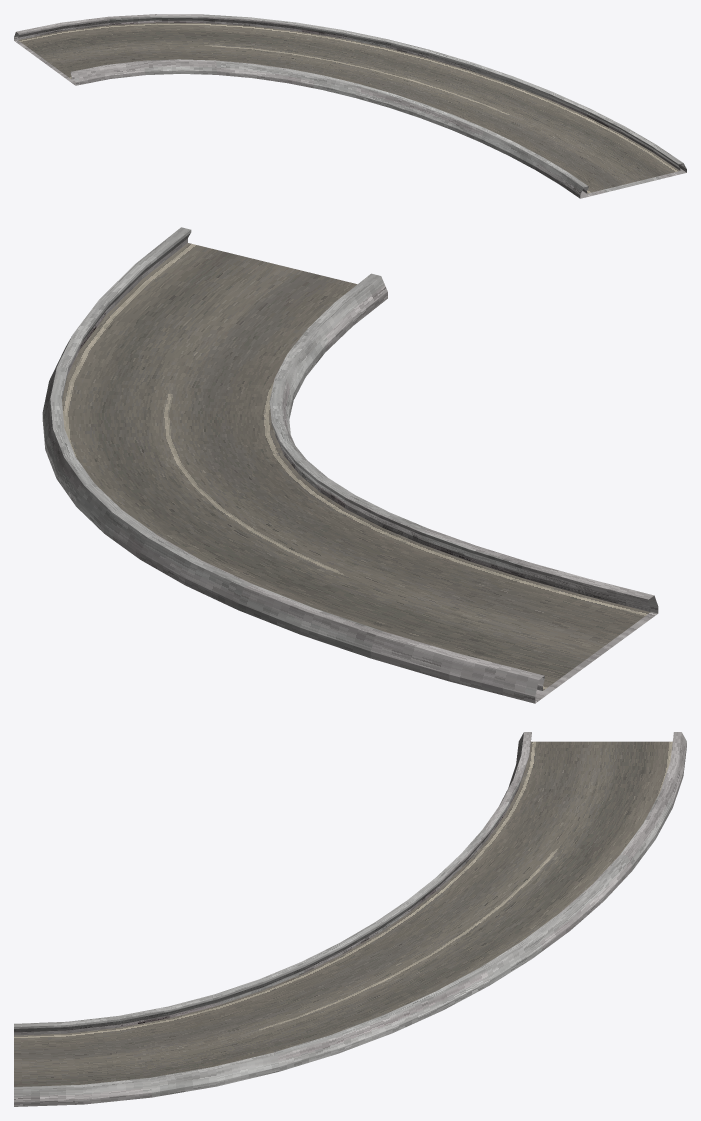
File: road-Turn-Flat-Flat-Up2-Left-Size4.glb
3 views of the same model, one above another, from view 1: azimuth 30°, elevation 25°; view 2: azimuth 150°, elevation 25°; view 3: azimuth 270°, elevation 25° (orthographic). The views are drawn at different scales.
Visible parts, largest first — view 1: road-Turn-Flat-Flat-Up2-Left-Size4; view 2: road-Turn-Flat-Flat-Up2-Left-Size4; view 3: road-Turn-Flat-Flat-Up2-Left-Size4.
Part boxes in pixels (x1,y1,x2,y2): road-Turn-Flat-Flat-Up2-Left-Size4: (14, 14, 686, 198); road-Turn-Flat-Flat-Up2-Left-Size4: (42, 227, 658, 703); road-Turn-Flat-Flat-Up2-Left-Size4: (14, 732, 686, 1106).
Bounding box in the file's own units: 4 × 0.5938 × 4.
Materials: 2 (2 with a texture image).
